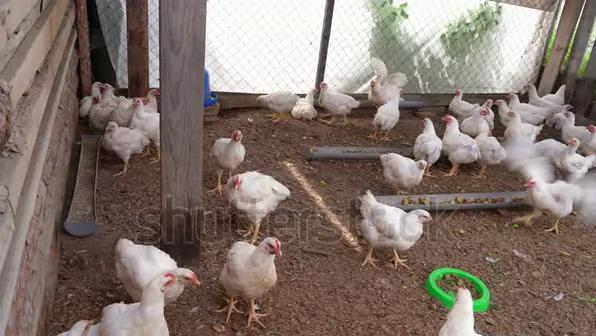Pollos: (115, 237, 203, 296), (361, 188, 434, 246), (221, 238, 286, 301), (523, 177, 576, 222), (441, 113, 479, 175), (228, 172, 285, 212), (376, 150, 429, 186), (319, 80, 360, 123), (103, 122, 150, 158), (255, 90, 301, 122), (557, 136, 596, 173), (522, 82, 568, 111), (213, 128, 248, 166), (370, 99, 405, 136), (503, 109, 539, 142), (414, 116, 441, 152), (128, 94, 157, 126), (448, 88, 482, 110), (463, 109, 492, 132)
